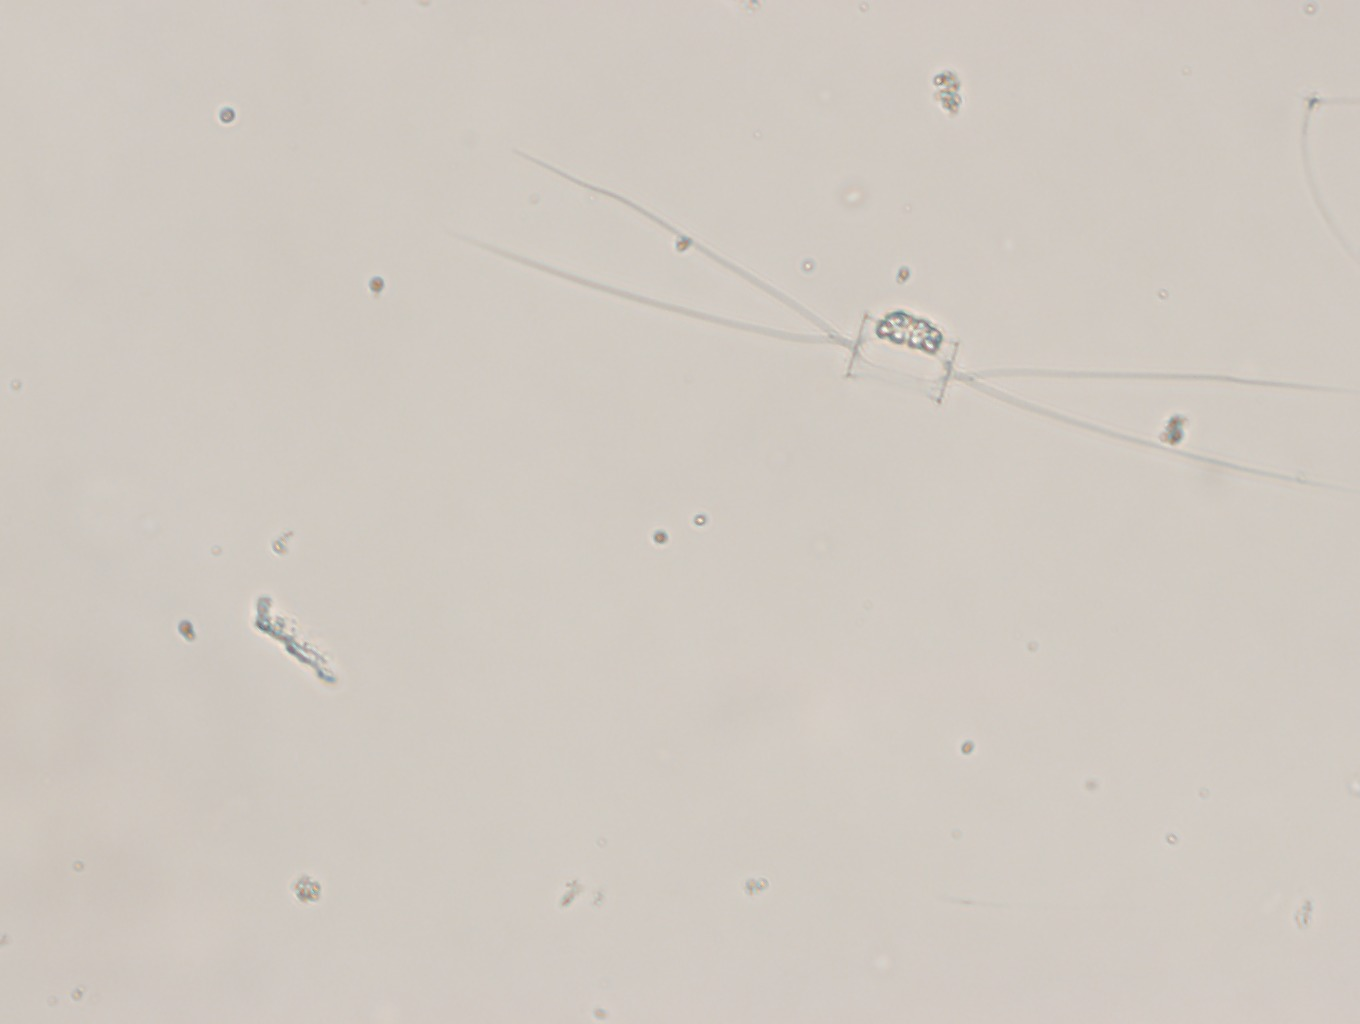chaetoceros: (458, 132, 1351, 498)
